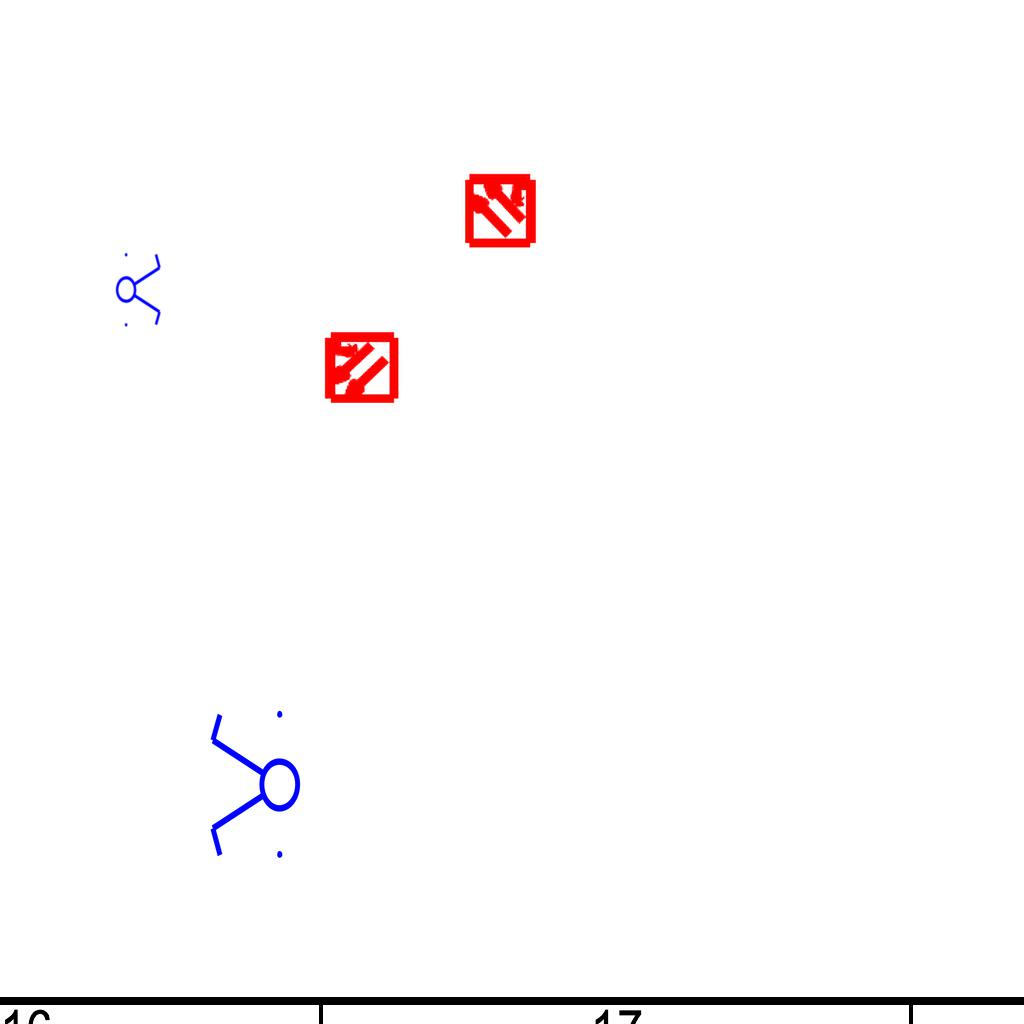OT_Multisensormelder_(Kombination_RMO_WMD): (444, 152, 557, 265), (303, 311, 416, 424)
Serienschalter: (206, 702, 302, 870), (115, 247, 163, 331)
